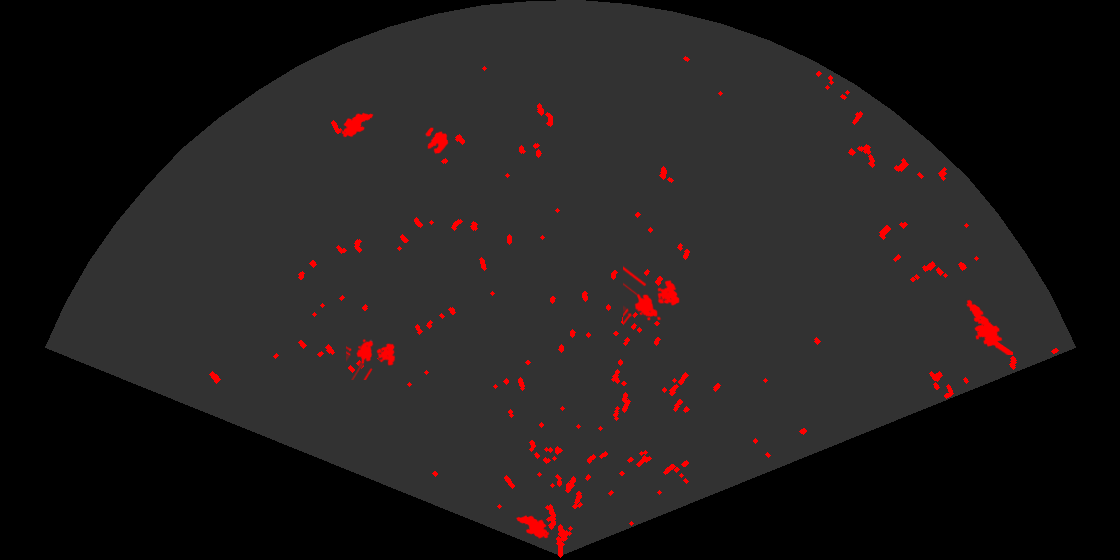AUV: (340, 111, 375, 139), (514, 514, 551, 540)
ball: (424, 126, 450, 156)
cage: (623, 265, 681, 327), (346, 337, 397, 380)
frogman: (965, 298, 1013, 355)
